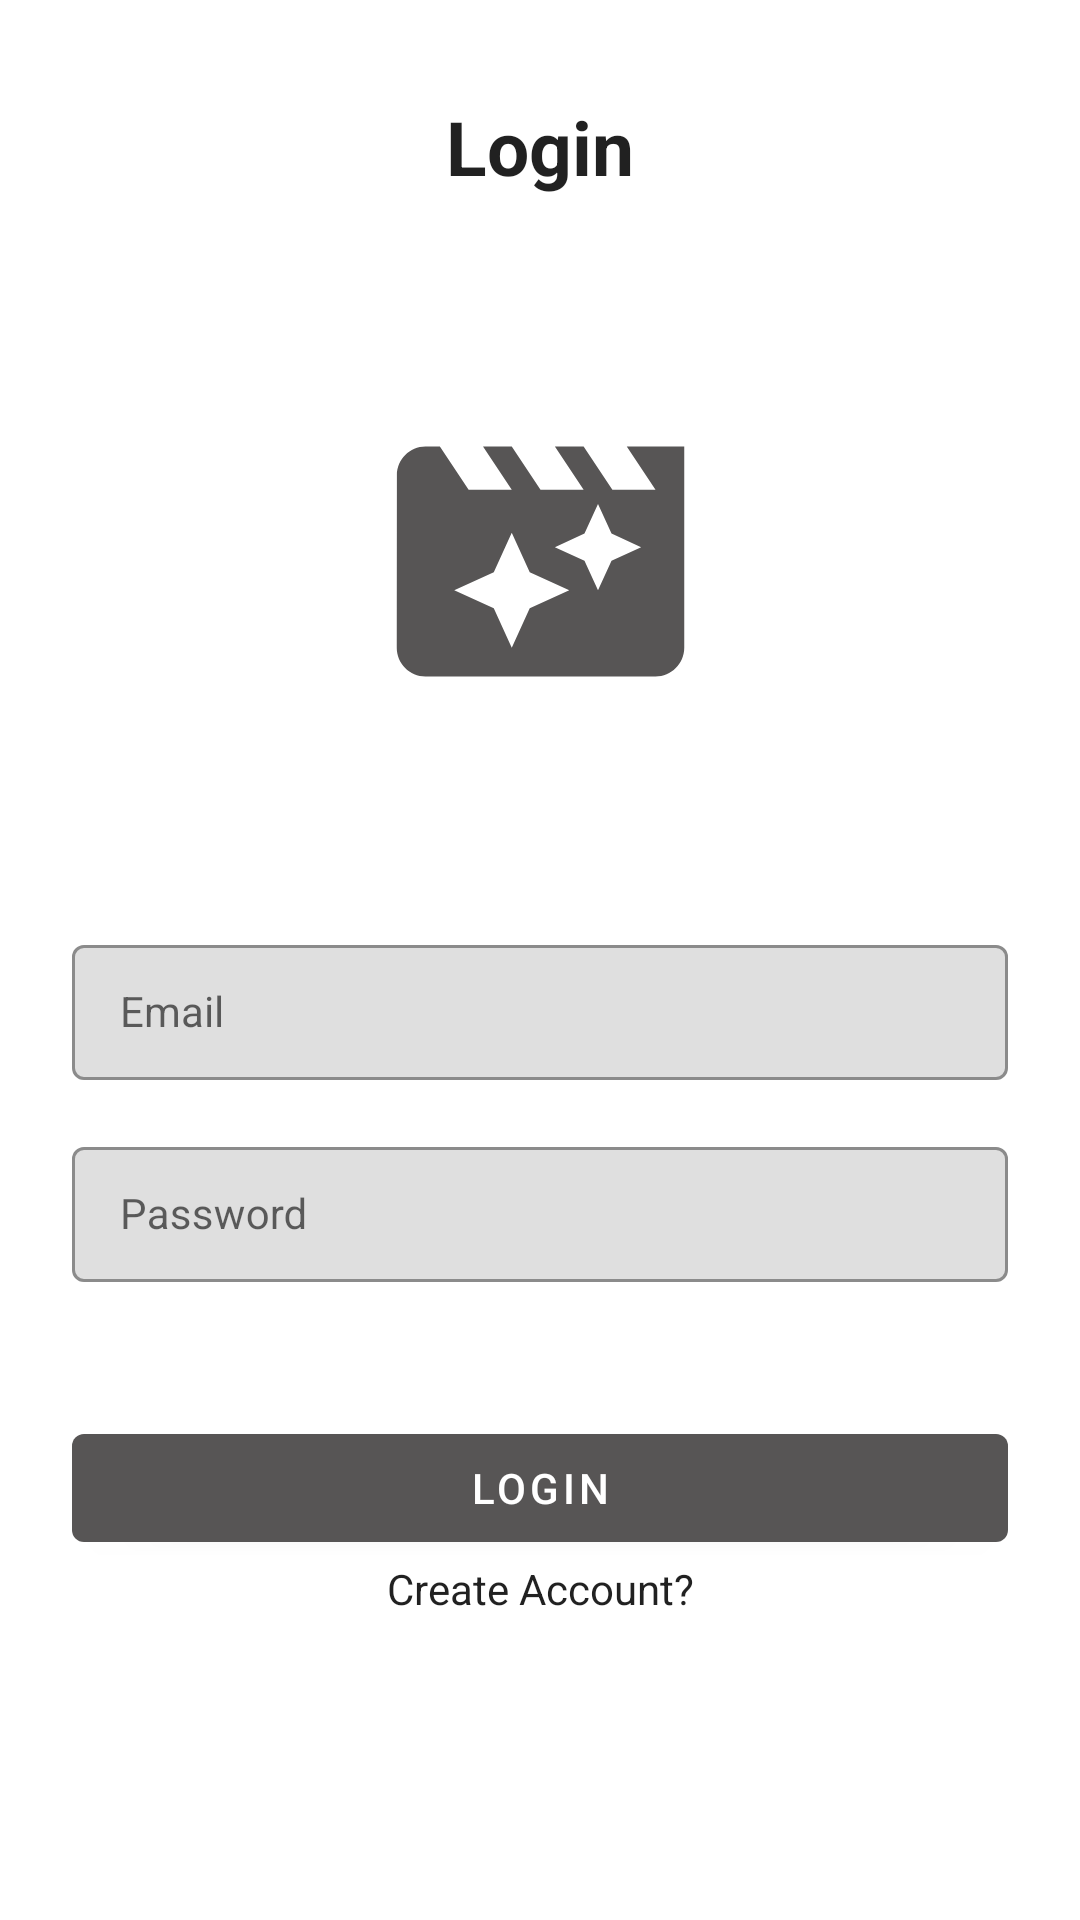

Icons on this 1080x1920 Android screen, each with its box as (x1, y1, x2, y2):
movies: (396, 446, 685, 677)
